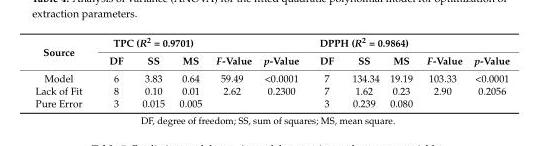table: (34, 34, 508, 109)
table column: (34, 34, 95, 109), (257, 34, 308, 109), (208, 34, 257, 109), (418, 34, 467, 109), (342, 34, 383, 109), (467, 34, 508, 109), (131, 34, 171, 109), (171, 34, 208, 109), (95, 34, 131, 109), (383, 34, 418, 109), (308, 34, 342, 109)
table column header: (34, 34, 508, 69)
table row: (34, 51, 508, 69), (34, 34, 508, 51), (34, 69, 508, 84), (34, 96, 508, 109), (34, 84, 508, 96)
table spanning cell: (34, 34, 95, 69), (95, 34, 208, 51), (308, 34, 418, 51), (257, 34, 308, 69), (208, 34, 257, 69), (418, 34, 467, 69), (467, 34, 508, 69)
